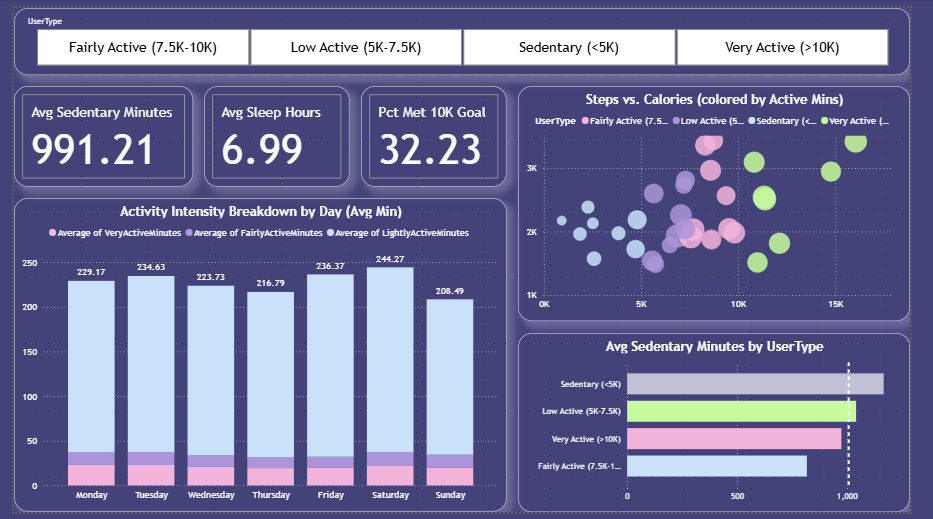

Layout of this report page (visuals, bound fields, positions):
{"tool":"powerbi","page":{"name":"Page 2","canvas":[1280,720],"ordinal":1},"visuals":[{"type":"cardVisual","fields":{"Data":["dailyActivity_merged.Avg Sedentary Minutes"]},"box":[0,112,256,144],"z":0},{"type":"cardVisual","fields":{"Data":["sleepDay_merged.Avg Sleep Hours"]},"box":[272,112,208,144],"z":1000},{"type":"cardVisual","fields":{"Data":["dailyActivity_merged.Pct Met 10K Goal"]},"box":[496,112,208,144],"z":1001},{"type":"slicer","fields":{"Values":["dailyActivity_merged.UserType"]},"box":[0,0,1280,96],"z":1002},{"type":"columnChart","title":"Activity Intensity Breakdown by Day (Avg Min)","fields":{"Category":["dailyActivity_merged.DayOfWeek"],"Y":["Avg(dailyActivity_merged.VeryActiveMinutes)","Avg(dailyActivity_merged.FairlyActiveMinutes)","Avg(dailyActivity_merged.LightlyActiveMinutes)"]},"box":[0,272,704,448],"z":1003},{"type":"scatterChart","title":"Steps vs. Calories (colored by Active Mins)","fields":{"X":["dailySteps_merged.Avg Total Steps"],"Y":["dailyCalories_merged.Avg Calories Burned"],"Size":["dailyActivity_merged.Avg Active Minutes"],"Series":["dailyActivity_merged.UserType"],"Category":["dailyActivity_merged.Id"]},"box":[720,112,560,336],"z":1004},{"type":"clusteredBarChart","fields":{"Category":["dailyActivity_merged.UserType"],"Y":["dailyActivity_merged.Avg Sedentary Minutes"]},"box":[720,464,560,256],"z":1005}]}

Visuals, with their boxes in screenshot pixels (x1, y1, x2, y2), scaled from the page's 1280x720 canvas onto the 933x519 screenshot:
cardVisual - dailyActivity_merged.Avg Sedentary Minutes: {"x1": 0, "y1": 81, "x2": 187, "y2": 185}
cardVisual - sleepDay_merged.Avg Sleep Hours: {"x1": 198, "y1": 81, "x2": 350, "y2": 185}
cardVisual - dailyActivity_merged.Pct Met 10K Goal: {"x1": 362, "y1": 81, "x2": 513, "y2": 185}
slicer - dailyActivity_merged.UserType: {"x1": 0, "y1": 0, "x2": 932, "y2": 69}
"Activity Intensity Breakdown by Day (Avg Min)" columnChart: {"x1": 0, "y1": 196, "x2": 513, "y2": 518}
"Steps vs. Calories (colored by Active Mins)" scatterChart: {"x1": 525, "y1": 81, "x2": 932, "y2": 323}
clusteredBarChart - dailyActivity_merged.UserType x dailyActivity_merged.Avg Sedentary Minutes: {"x1": 525, "y1": 334, "x2": 932, "y2": 518}
